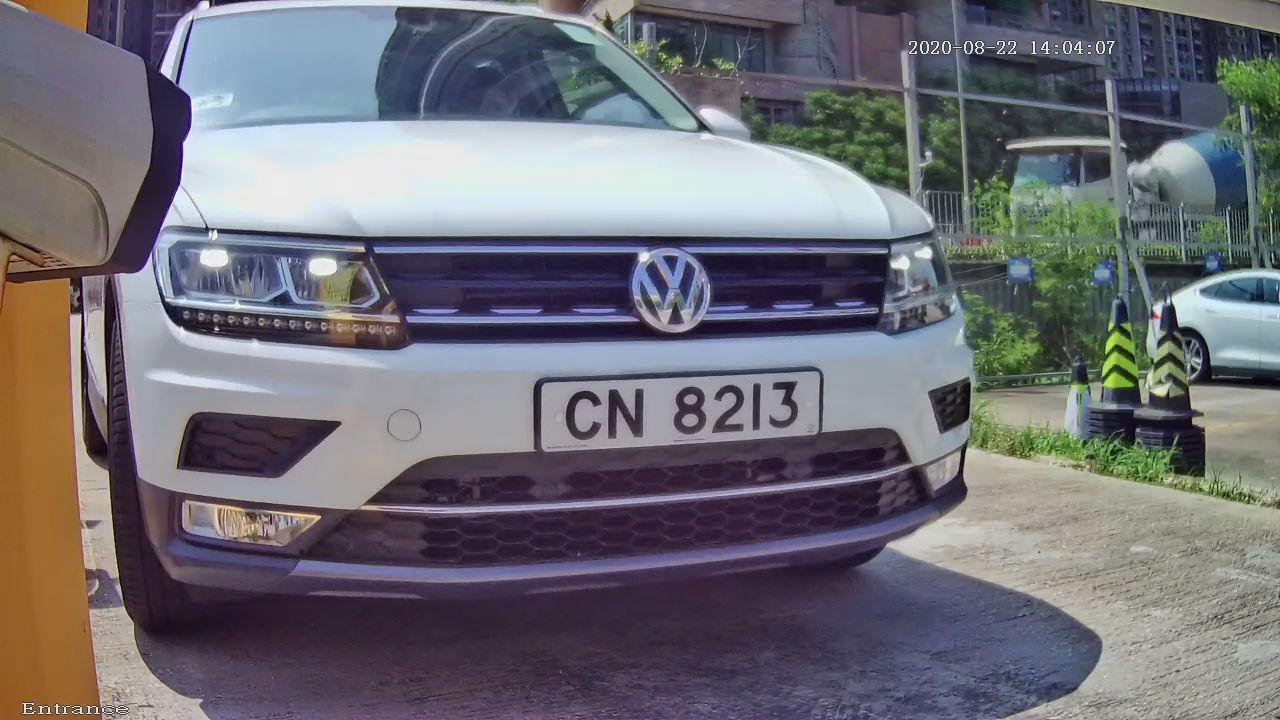Car: (12, 4, 1046, 676)
License Plate: (515, 357, 841, 467)
